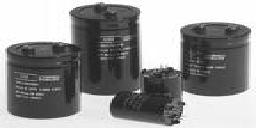Electrolytic-Capacitor: (3, 40, 84, 123), (68, 1, 142, 91), (180, 20, 255, 96), (111, 90, 185, 128), (137, 66, 182, 88)
